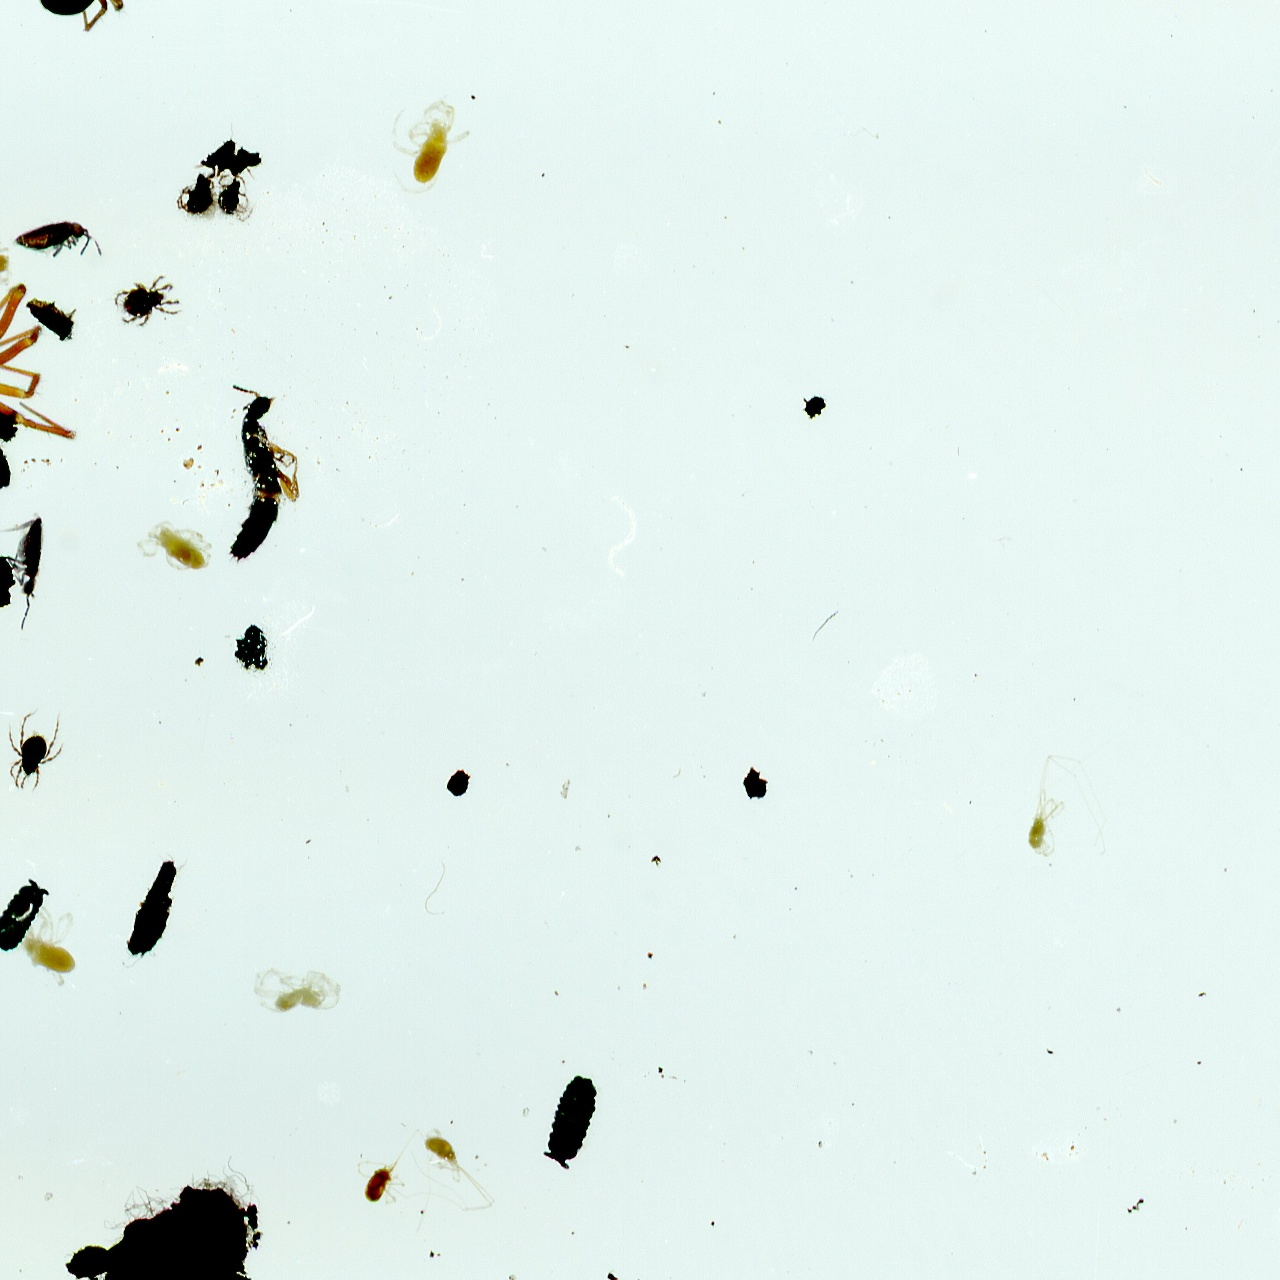arthropod: (0, 236, 119, 490), (227, 381, 300, 566), (382, 1123, 498, 1234), (1026, 753, 1113, 871), (386, 93, 473, 198), (537, 1068, 608, 1175), (0, 506, 50, 635), (10, 211, 106, 276), (249, 962, 346, 1017), (0, 871, 59, 961), (6, 706, 65, 793), (18, 904, 78, 988), (34, 0, 155, 36), (134, 519, 212, 572), (110, 274, 181, 328), (351, 1158, 411, 1205), (216, 165, 257, 225), (176, 172, 221, 223), (0, 414, 22, 498), (0, 212, 13, 286)
